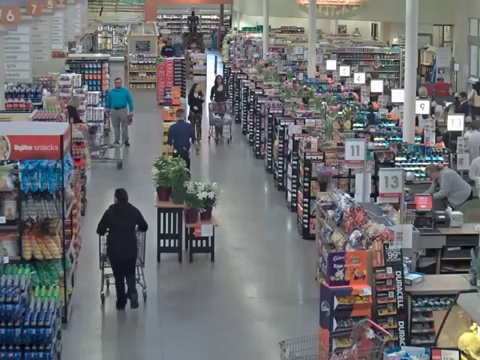face: (115, 79, 122, 89), (216, 76, 222, 84), (195, 86, 201, 92)
